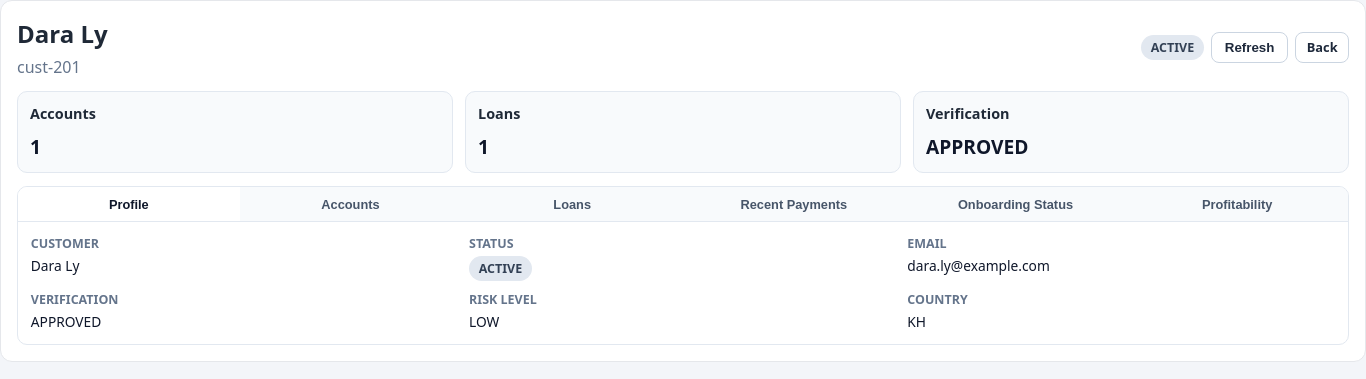
Test: Customer360Page › renders summary and tabs with loaded data
Check: the heading "Dara Ly" is shown, box [17,17,108,50]
Click the tab "Accounts" at (351,204), box [240,187,461,221]
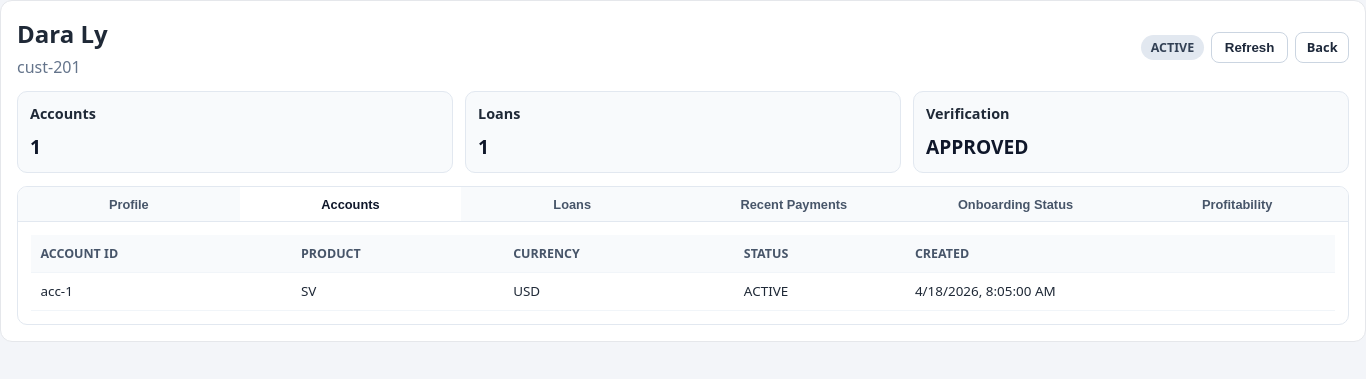
Check: the text "acc-1" is shown, box [31,272,291,311]
Click the tab "Loans" at (572,204), box [461,187,683,221]
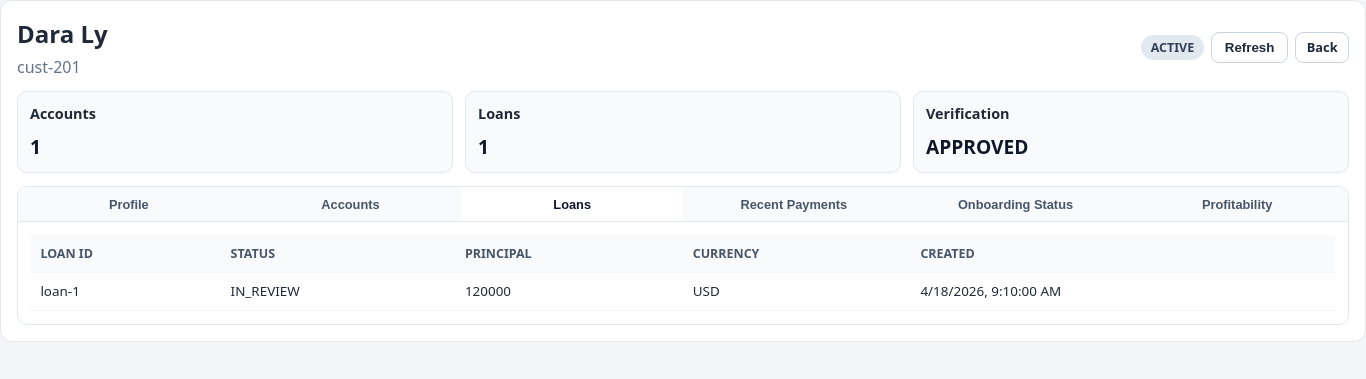
Check: the text "loan-1" is shown, box [31,272,221,311]
Click the tab "Profitability" at (1237,204), box [1126,187,1348,221]
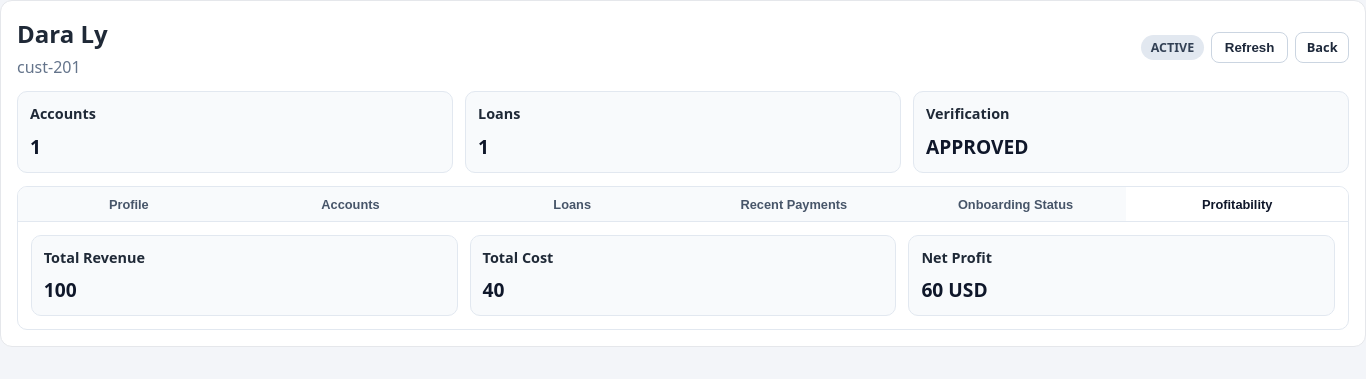
Check: the heading "Net Profit" is shown, box [921,248,992,267]
